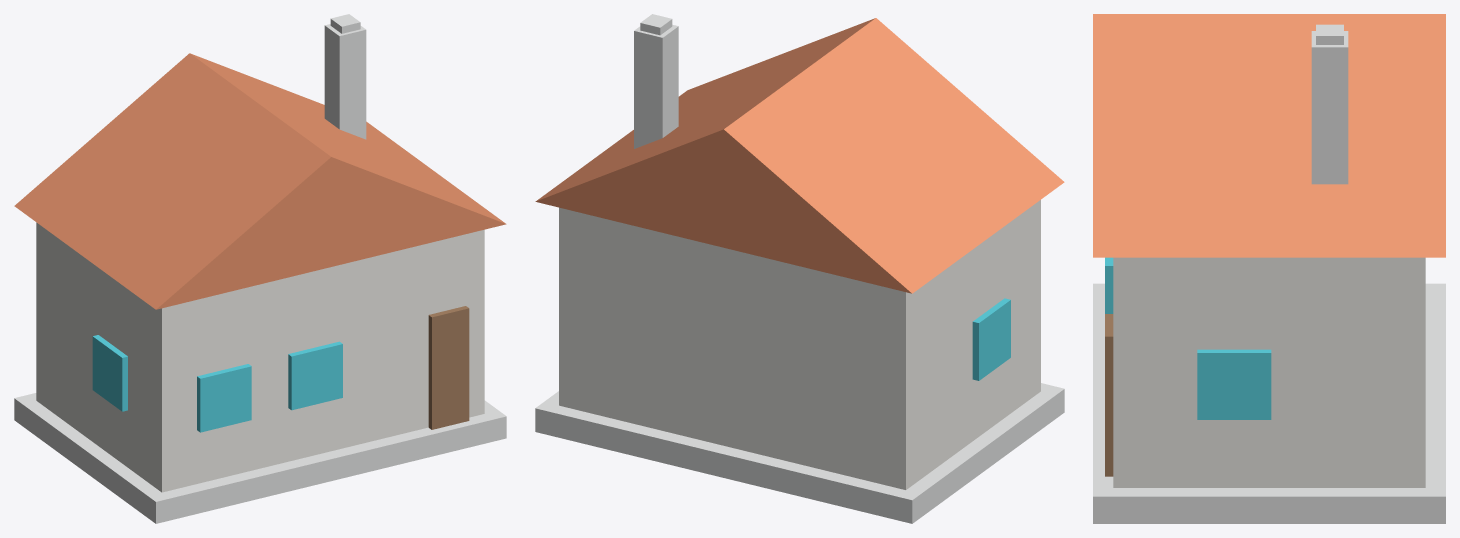
The model's file is House04.fbx.
3 renders of one model, left to right at view 1: azimuth 30°, elevation 25°; view 2: azimuth 150°, elevation 25°; view 3: azimuth 270°, elevation 25°, orthographic. The views are drawn at different scales.
Parts seen in each view (by area): view 1: House04; view 2: House04; view 3: House04.
Boxes of the visible parts, x1,y1,x2,y2 form: House04: (14,14,506,523); House04: (535,14,1064,523); House04: (1093,14,1445,523).
Size of the model in its own units: 665 by 660 by 465.
